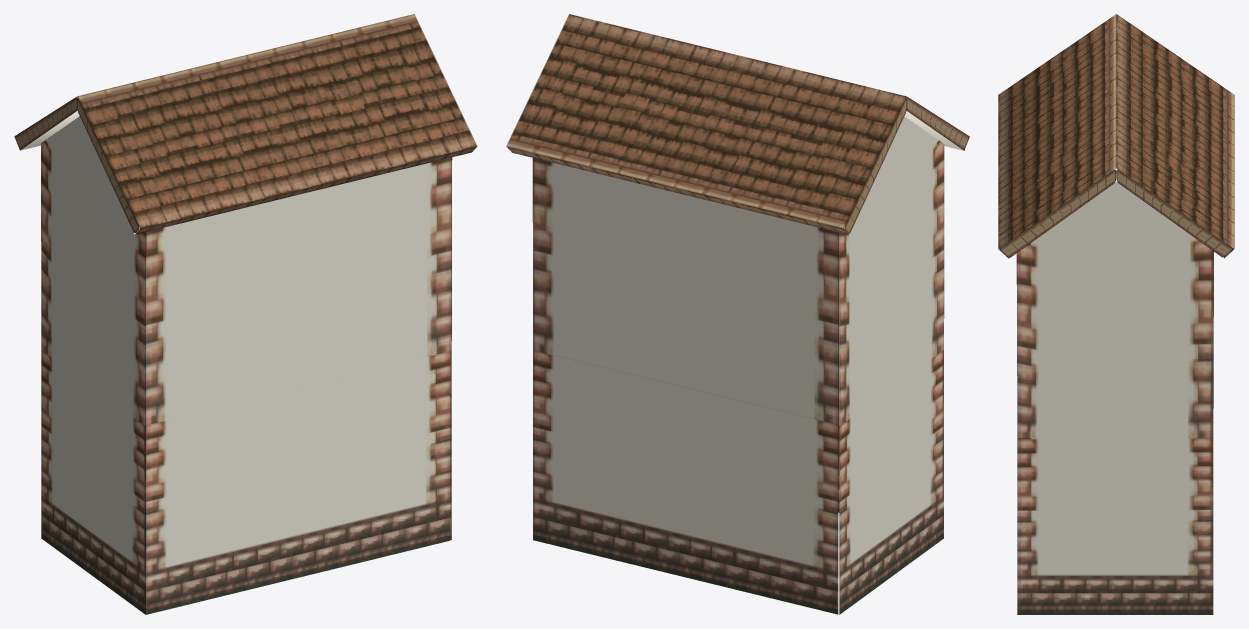
File: house_base_02.fbx
3 renders of one model, left to right at view 1: azimuth 30°, elevation 25°; view 2: azimuth 150°, elevation 25°; view 3: azimuth 270°, elevation 25°, orthographic. The views are drawn at different scales.
Visible parts, largest first — view 1: house_base_05; view 2: house_base_05; view 3: house_base_05.
Part boxes in pixels (x1,y1,x2,y2): house_base_05: [14, 14, 477, 614]; house_base_05: [506, 14, 969, 614]; house_base_05: [998, 14, 1234, 614].
Size of the model in its own units: 371 by 509 by 240.
